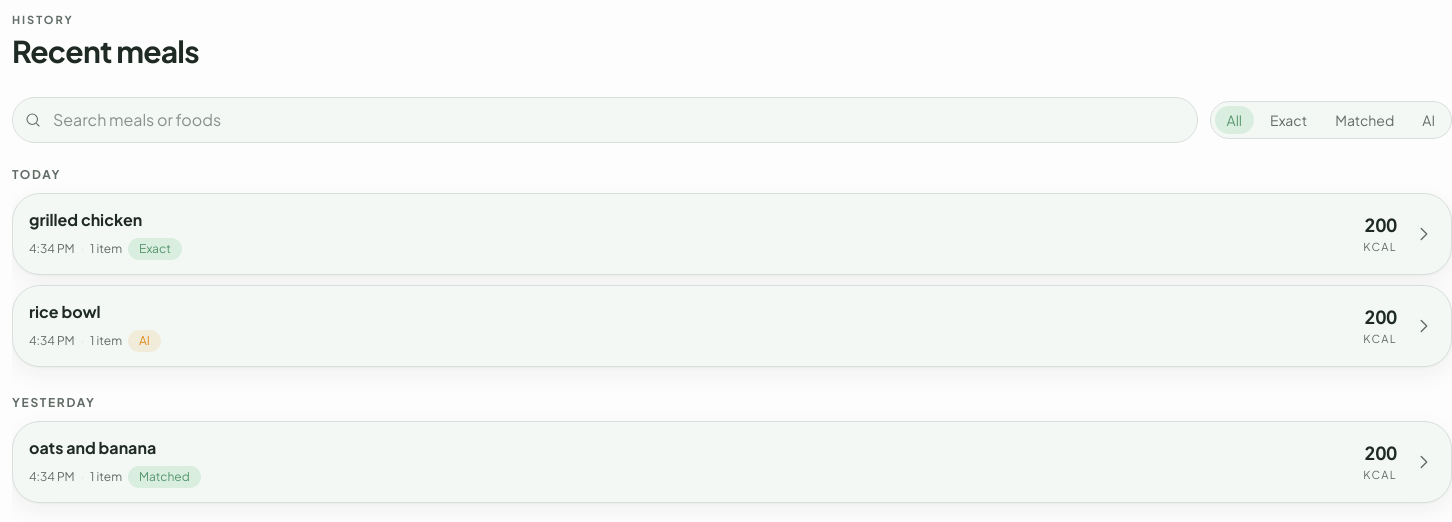
History › filters meals by parser tier
Check: the text "grilled chicken" is shown, box [29,208,142,230]
Click the button "AI" at coordinates (1429, 120), box [1410,106,1447,134]
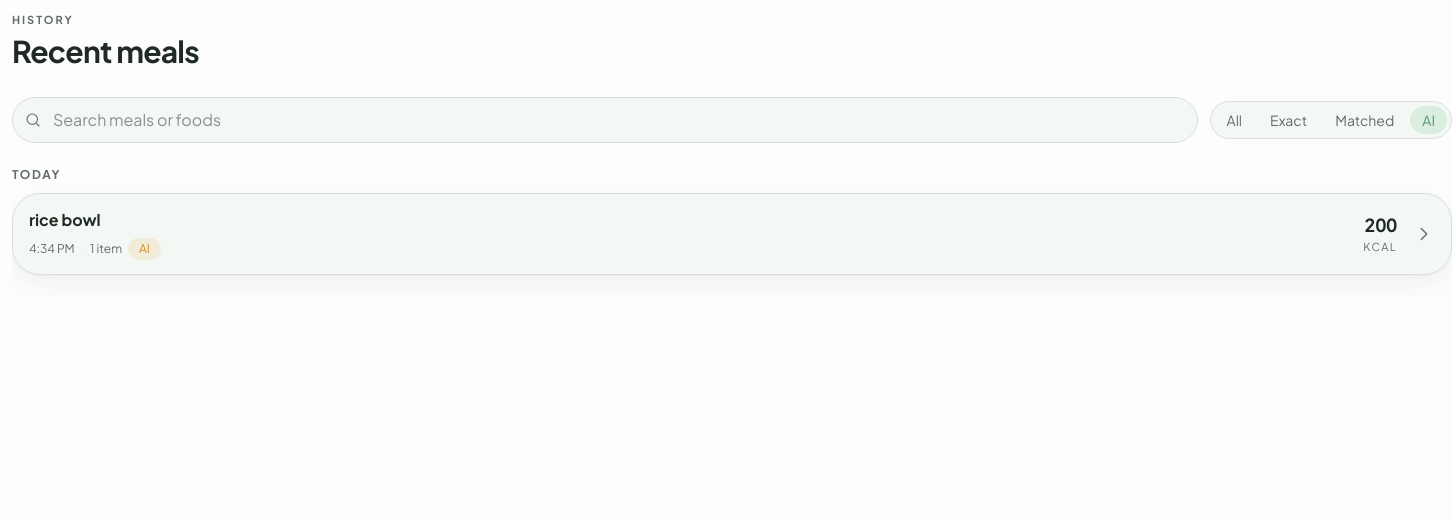
Check: the text "rice bowl" is shown, box [29,208,101,230]
Check: the link "grilled chicken" is gone
Check: the link "oats and banana" is gone
